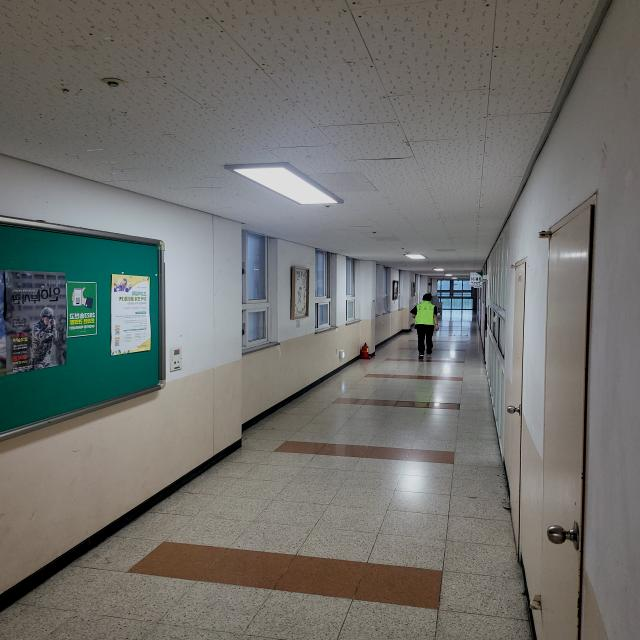weston_spy: (401, 301, 444, 331)
